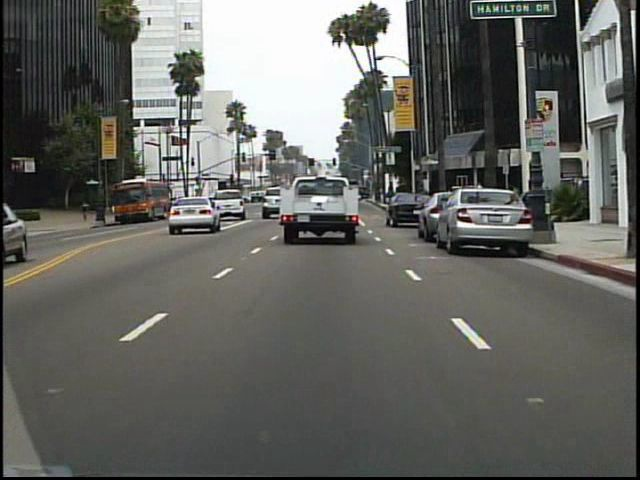person: (80, 197, 92, 224)
